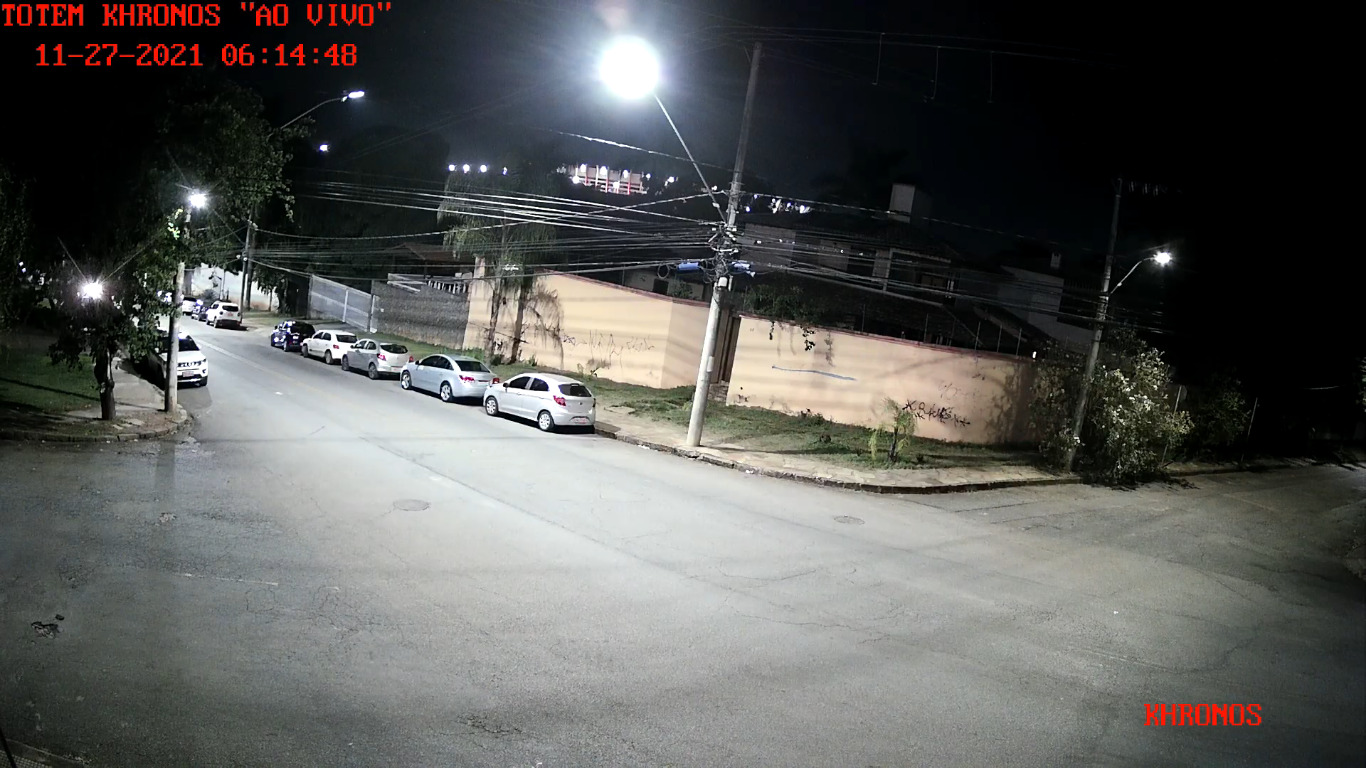car: (482, 372, 598, 435), (400, 352, 502, 404), (138, 327, 210, 389), (341, 338, 415, 380), (300, 327, 360, 365), (269, 318, 316, 356), (205, 300, 243, 329)
